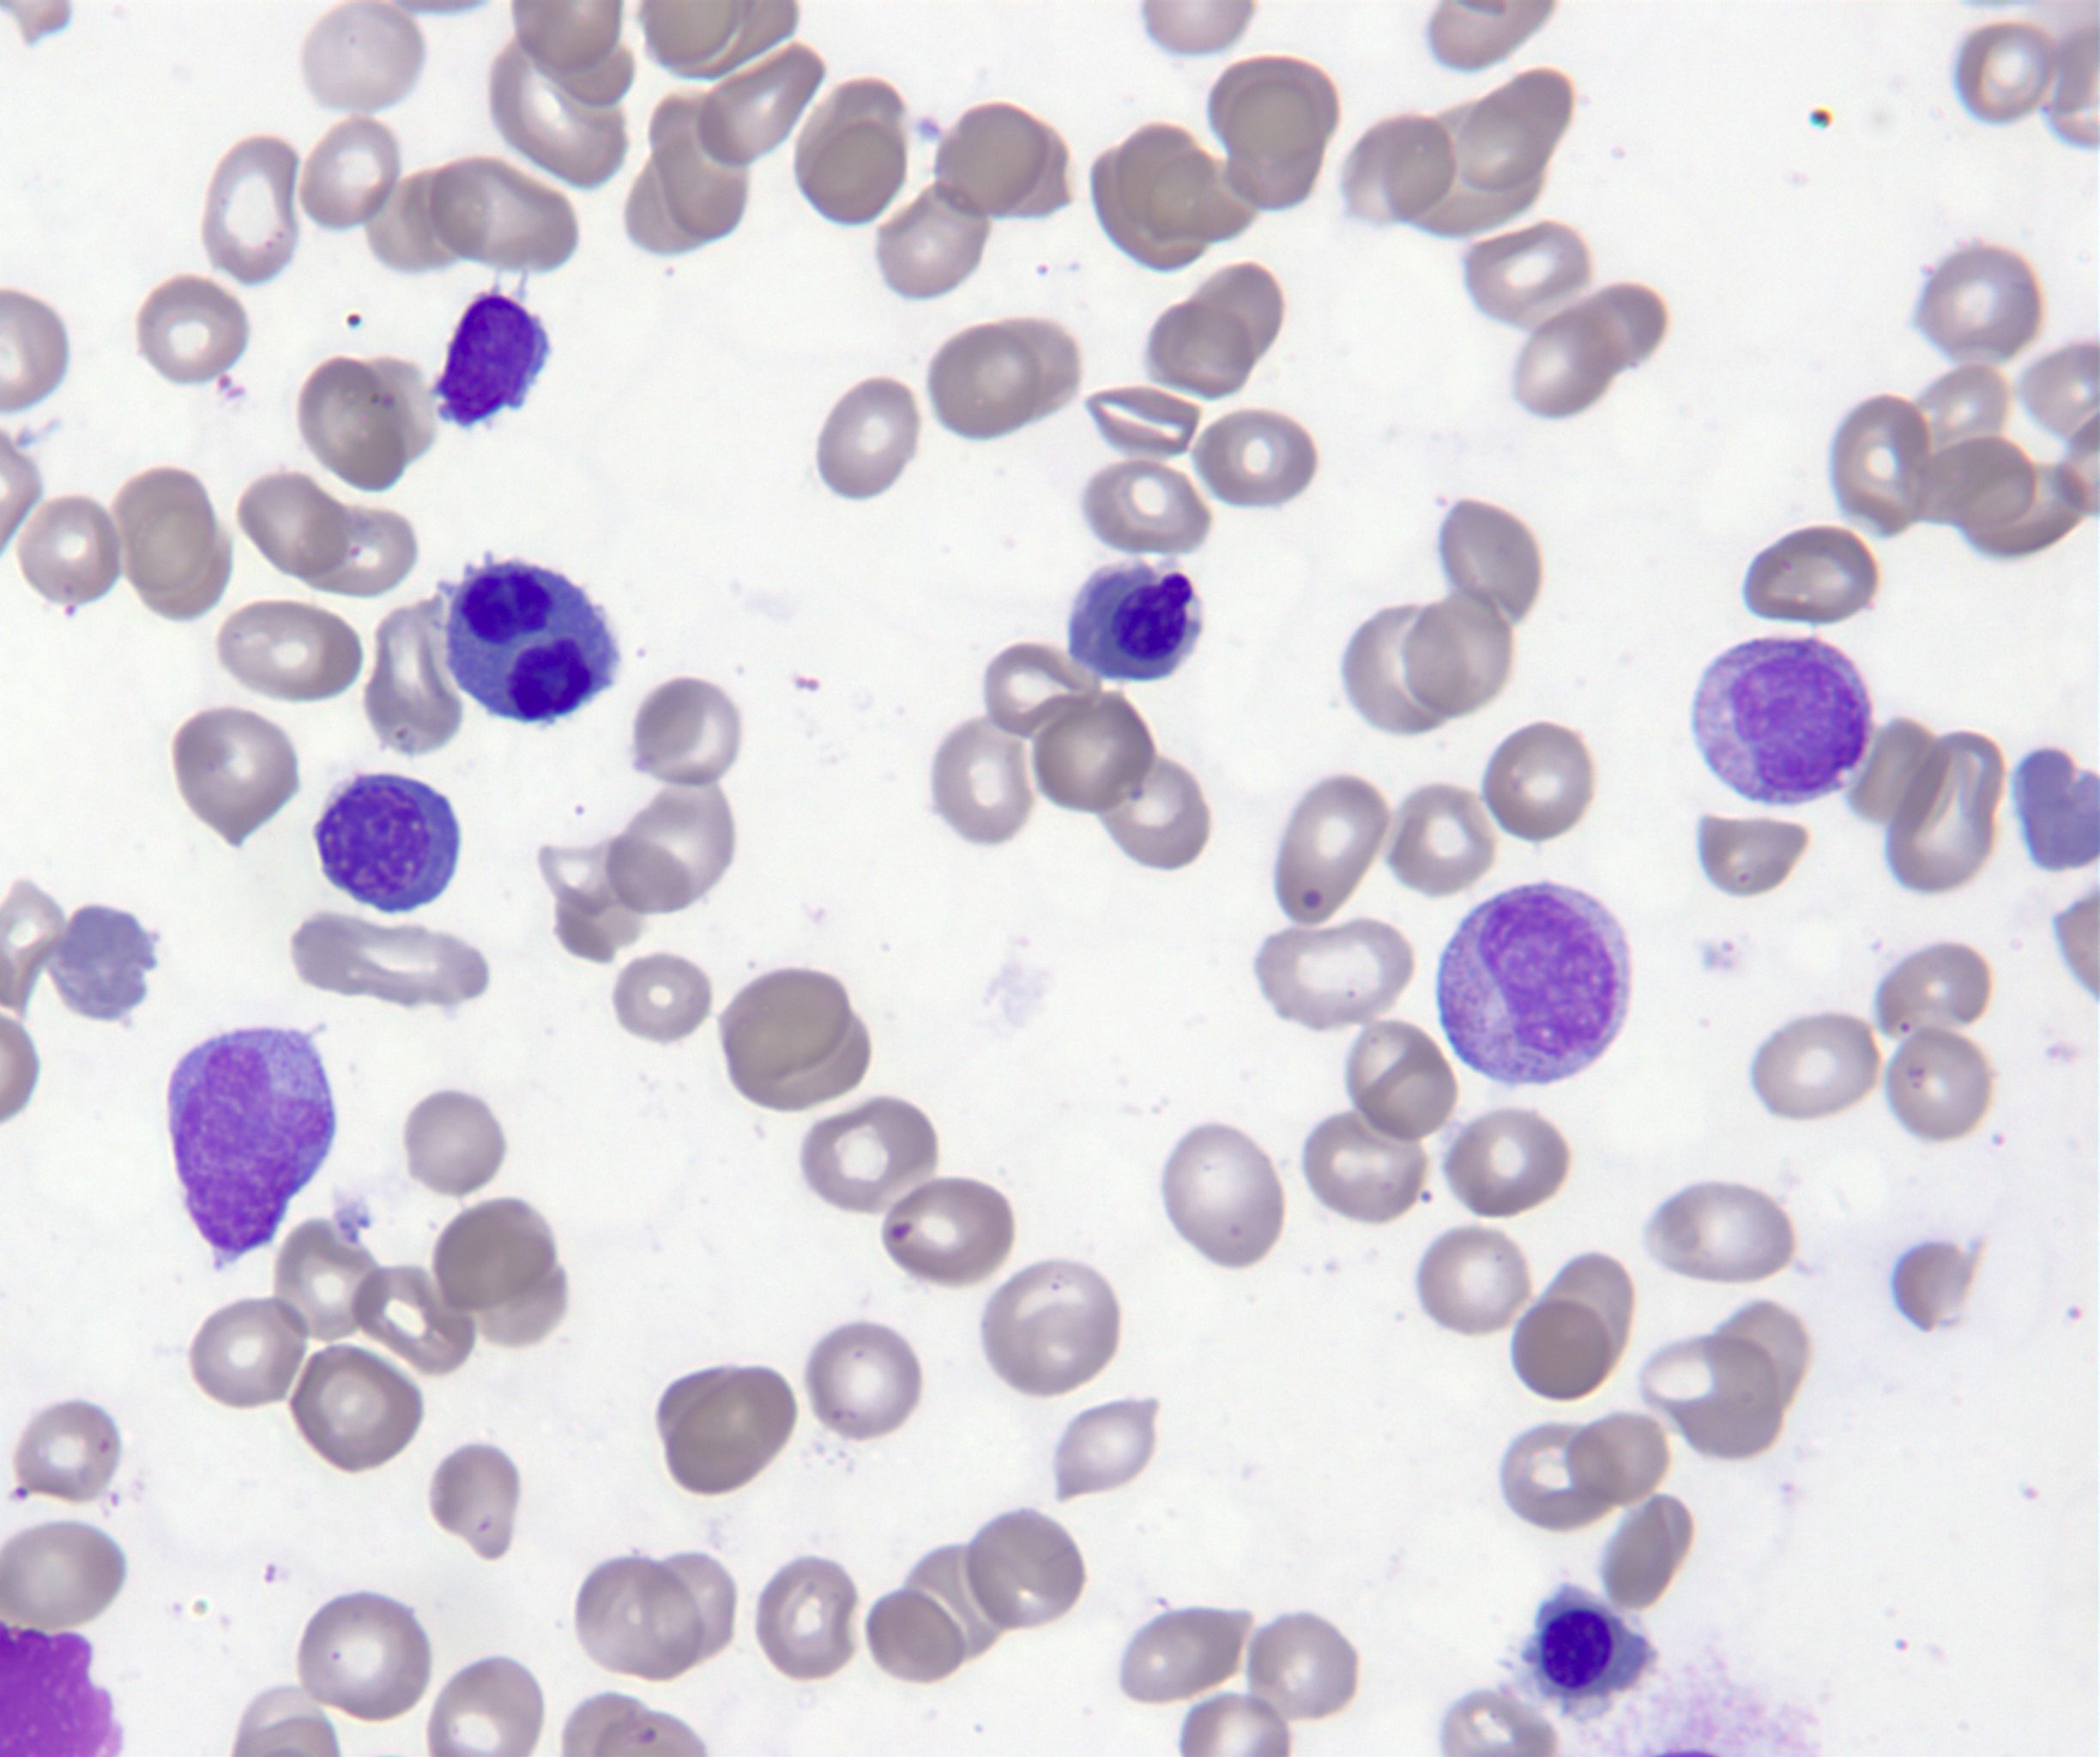23: (312, 769, 462, 914)
24: (1066, 553, 1207, 684)
3: (1437, 883, 1634, 1085), (1690, 633, 1875, 804)
32: (434, 297, 548, 427)
42: (167, 1029, 335, 1274)
x: (445, 560, 619, 722), (1519, 1581, 1655, 1720)
